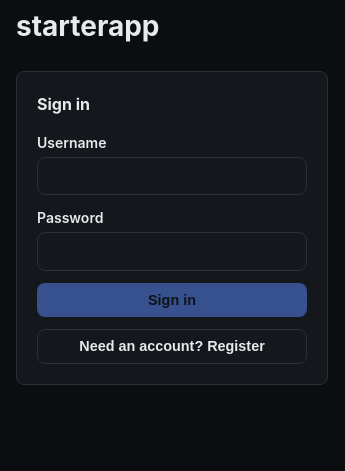
Test: AuthForm › shows a friendly message for invalid credentials
Type "alice" into the field labelled "Username".
click(172, 176); type("alice")  # box [37, 157, 307, 195]
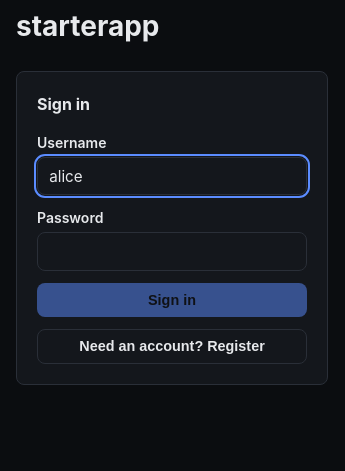
Type "wrong-password" into the password field labelled "Password".
click(172, 252); type("wrong-password")  # box [37, 232, 307, 271]
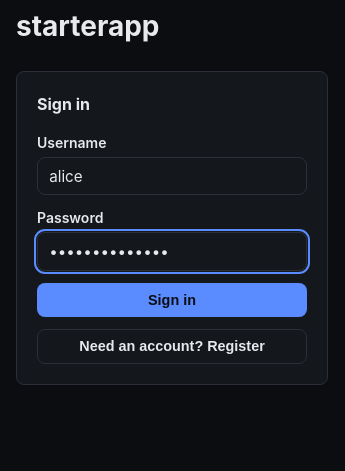
Click the button "Sign in".
click(172, 300)  # box [37, 283, 307, 316]
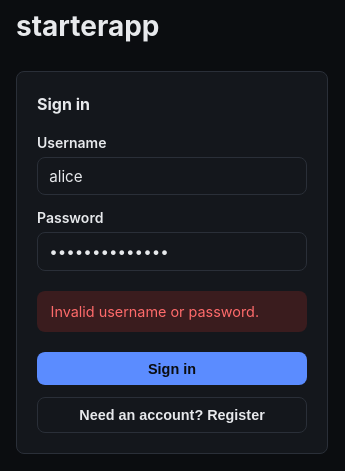
Result: the message reads "Invalid username or password." at [51, 302, 259, 320]
